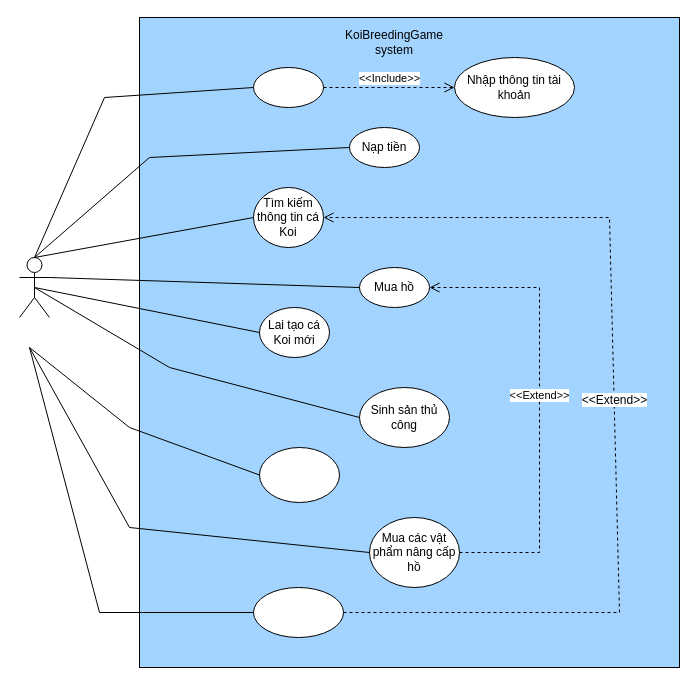
Some shapes in this 697 by 685 pixel diagram are drawn without their labels. The shapes that lost their labels are listed below. From the top down, each one's centre as x and y in pixels, then its label:
the point at 288,87: Đăng kí
the point at 34,287: Player
the point at 299,474: Sinh sản tự động
the point at 298,612: Trao đổi hoặc bán cá Koi
